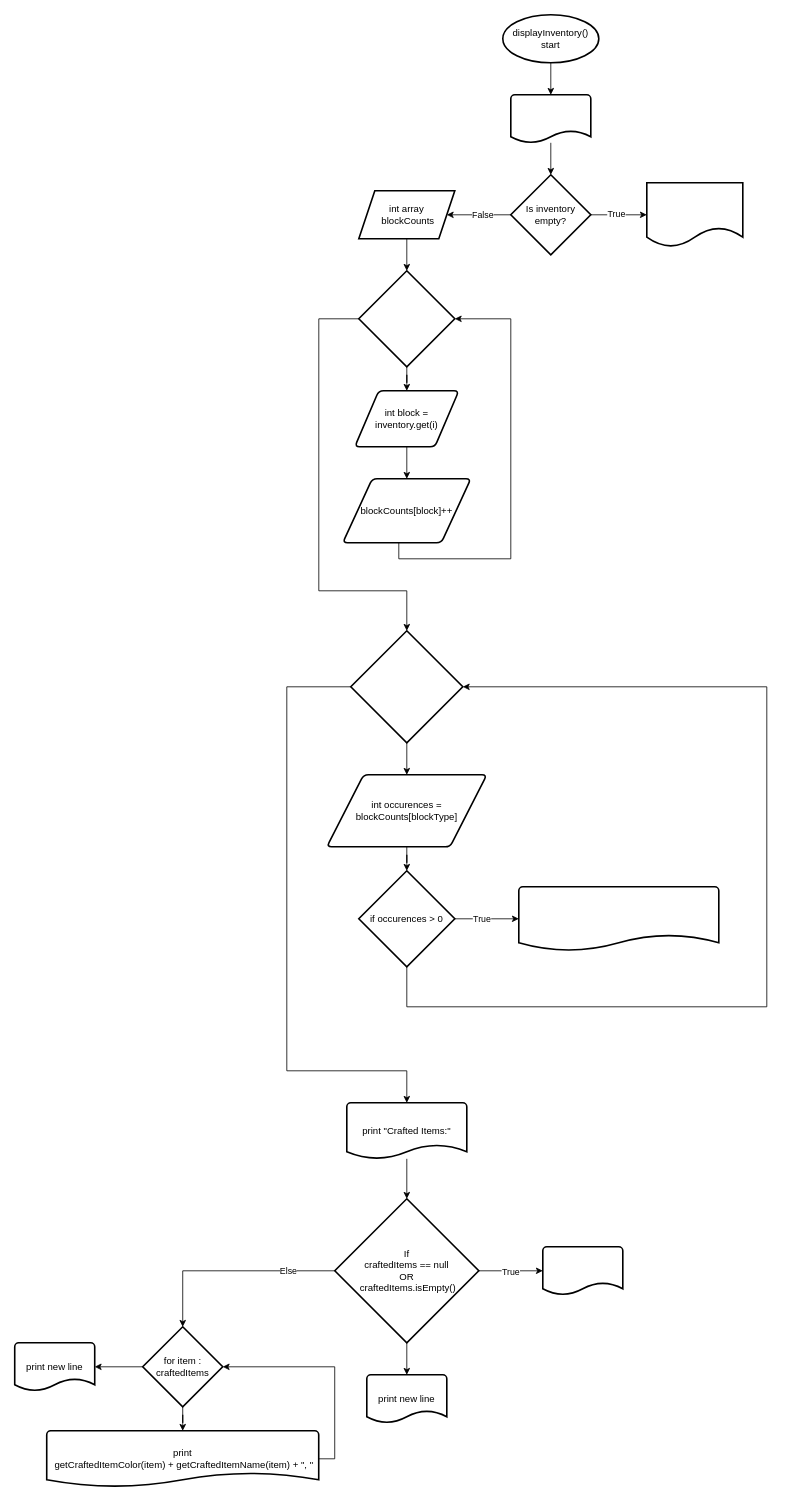
This 787x1501 diagram has some shape labels left out. The shapes that lost their labels are listed below. From the top down, each one's centre as x and y in pixels, then its label:
(x=550, y=118): print "Inventory:"
(x=694, y=214): print "Empty"
(x=406, y=318): for i=0 until inventory.size()
(x=406, y=686): for blockType=1 until blockCounts.length
(x=618, y=918): print getBlockName(blockType) + " - " = occurences
(x=582, y=1270): print "None"
